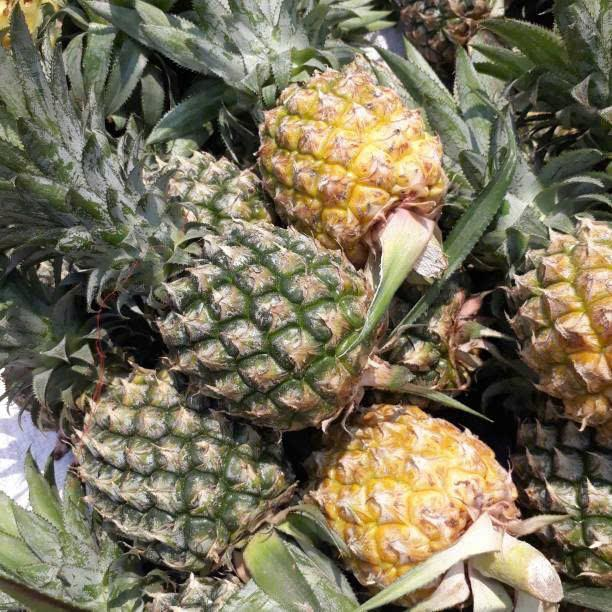pineapple: (0, 71, 384, 423), (309, 395, 534, 612), (36, 347, 256, 559), (276, 30, 442, 245), (475, 198, 612, 455)
